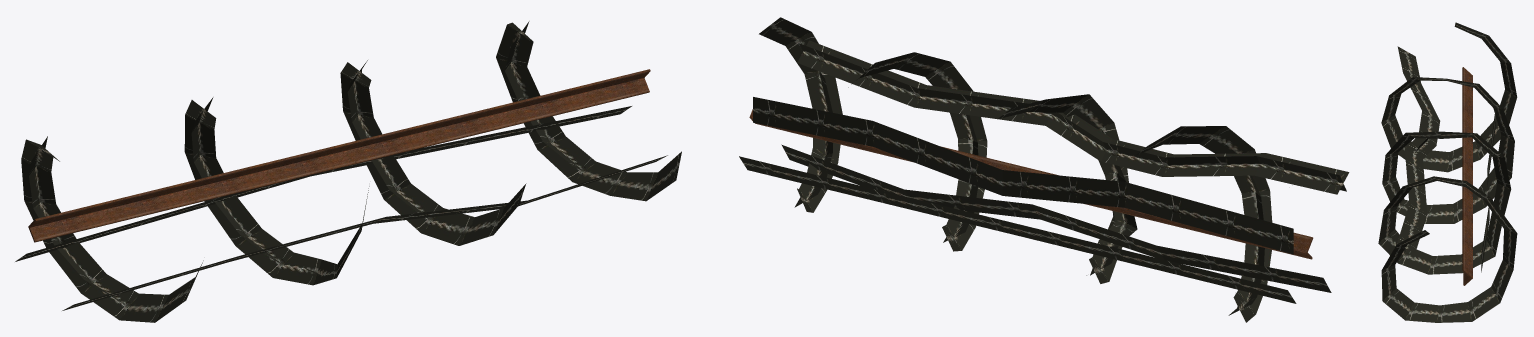
Rendered from caen_barbedwire_4.glb.
3 renders of one model, left to right at view 1: azimuth 30°, elevation 25°; view 2: azimuth 150°, elevation 25°; view 3: azimuth 270°, elevation 25°, orthographic. The views are drawn at different scales.
Size of the model in its own units: 110 by 31.13 by 31.05.
Materials: 1 (1 with a texture image).
